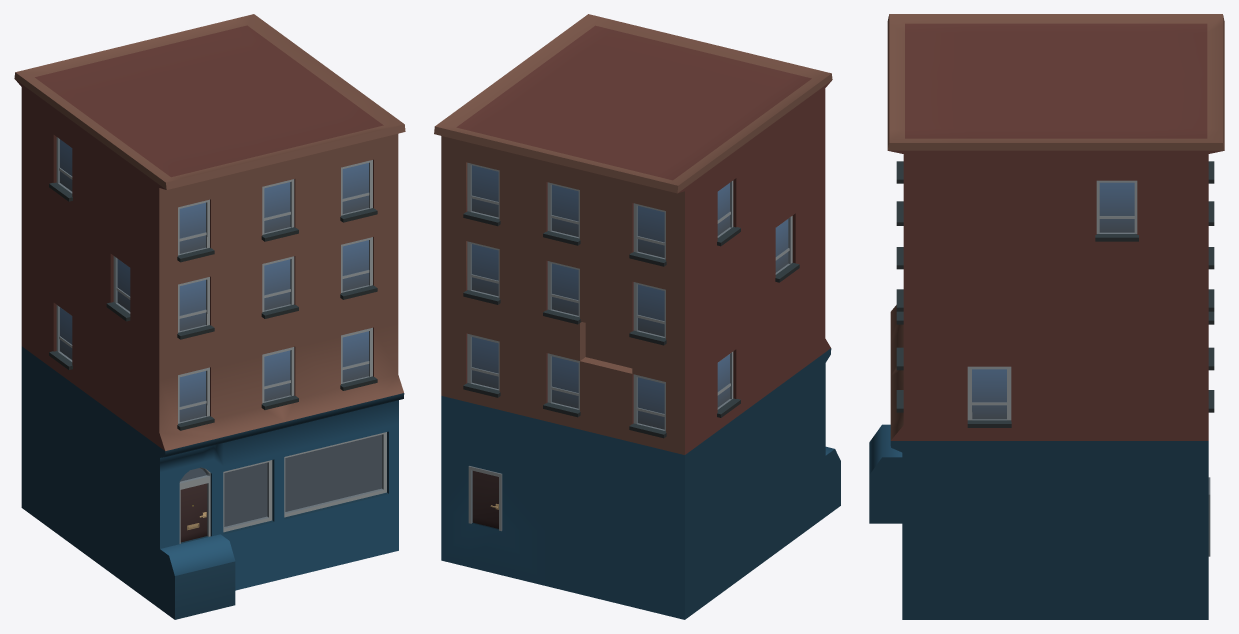
Rendered from Residential_GeorgianHome_alt01.glb.
3 renders of one model, left to right at view 1: azimuth 30°, elevation 25°; view 2: azimuth 150°, elevation 25°; view 3: azimuth 270°, elevation 25°, orthographic. The views are drawn at different scales.
Parts seen in each view (by area): view 1: base.103, windowRefl.073; view 2: base.103, windowRefl.073; view 3: base.103, windowRefl.073.
Part boxes in pixels (left/top/right/bottom): base.103: left=14, top=14, right=405, bottom=619; windowRefl.073: left=60, top=139, right=381, bottom=526; base.103: left=434, top=14, right=840, bottom=619; windowRefl.073: left=472, top=165, right=788, bottom=429; base.103: left=869, top=14, right=1224, bottom=619; windowRefl.073: left=972, top=182, right=1134, bottom=419.
Bounding box in the file's own units: 11.21 × 18.64 × 12.58.
